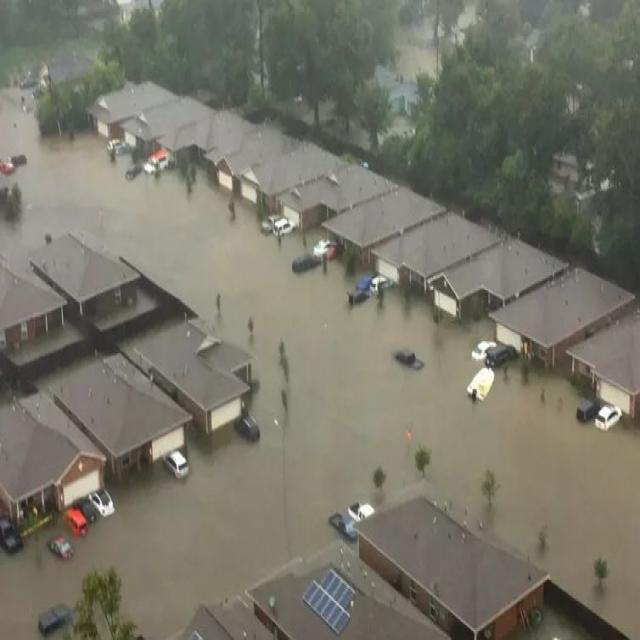flood: (0, 93, 640, 640)
house: (346, 489, 562, 632), (38, 356, 199, 478), (484, 257, 640, 372), (246, 555, 454, 640), (415, 215, 566, 321), (119, 328, 261, 433), (0, 404, 106, 542), (369, 211, 498, 294), (32, 232, 140, 316), (568, 310, 640, 432), (324, 185, 444, 258), (0, 248, 64, 366), (92, 84, 185, 156), (278, 165, 397, 218), (175, 596, 280, 640), (209, 149, 236, 194), (239, 166, 262, 210)
